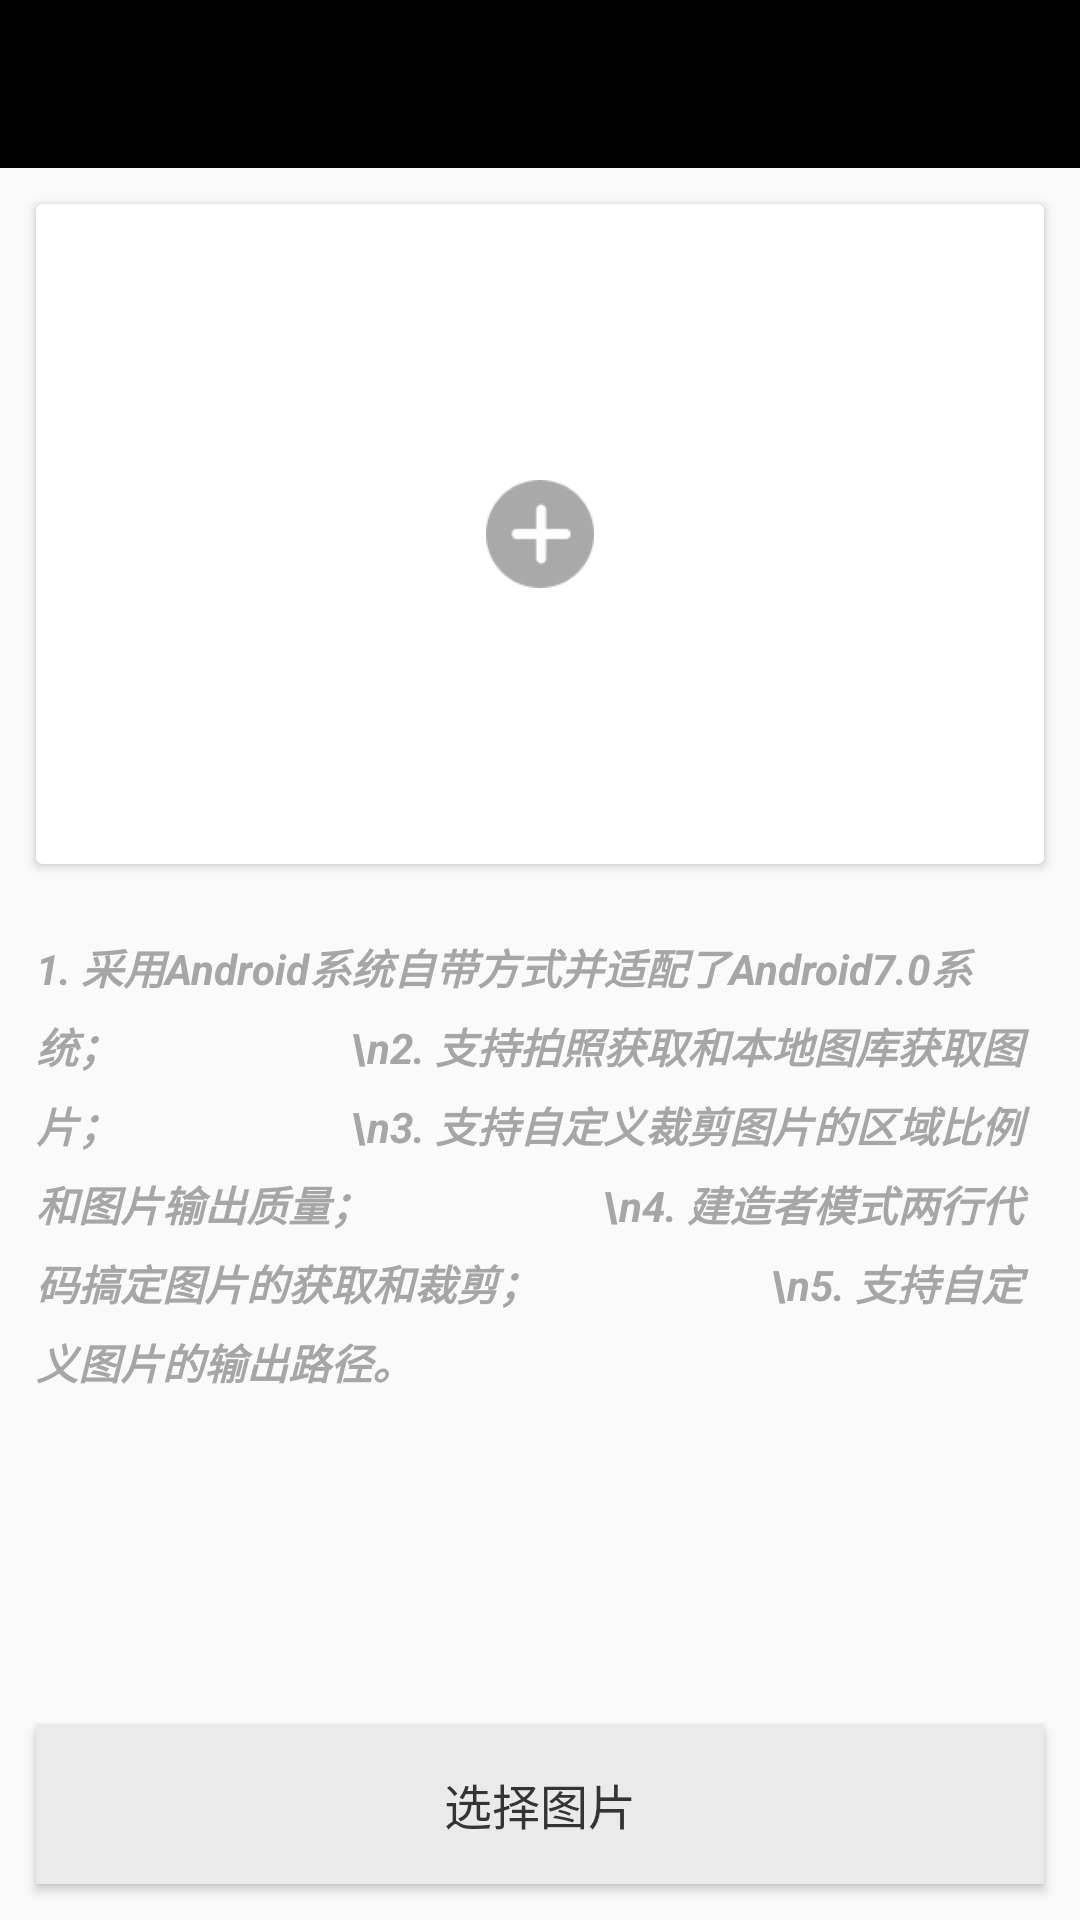

Named icons in this screenshot (1080w x 1920h) and their centers, [x,y]:
plus: [540,534]
